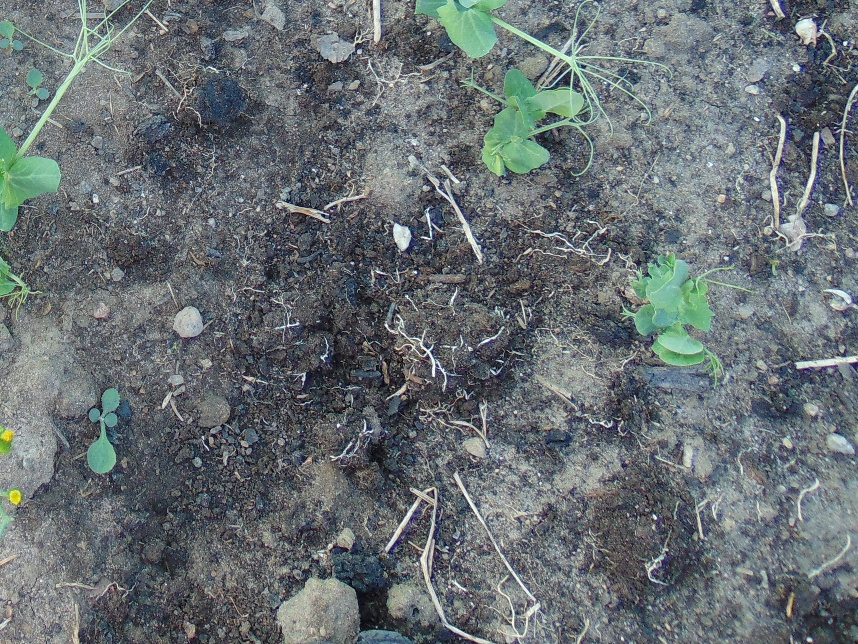crop: (1, 13, 109, 234), (472, 55, 615, 177), (412, 1, 599, 87), (629, 253, 732, 385), (1, 249, 44, 318)
weed: (84, 388, 122, 473), (1, 418, 27, 538)
